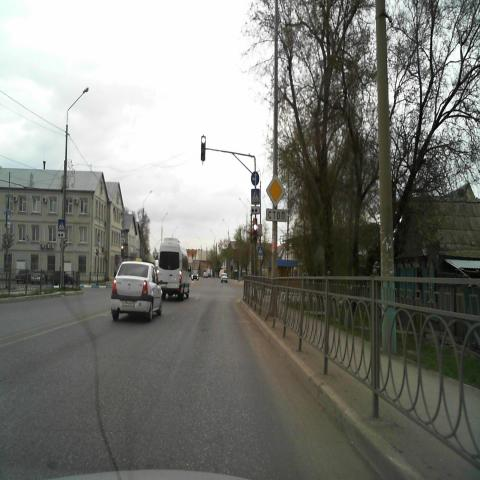4_1_5: (251, 171, 259, 185)
